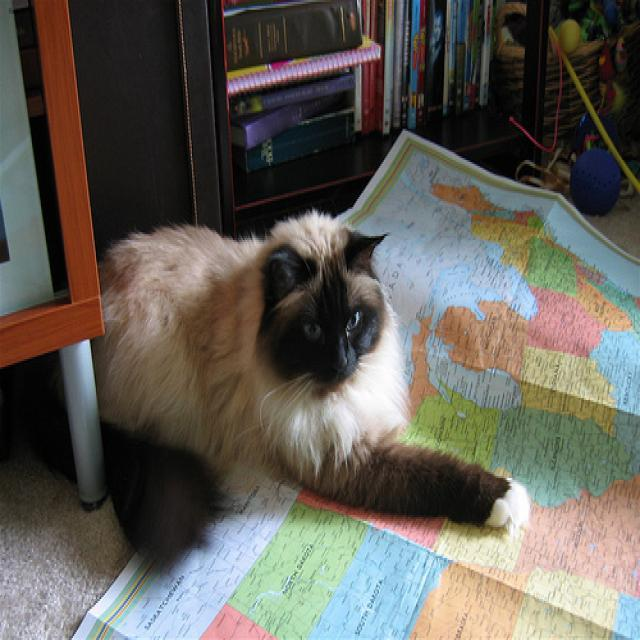Birman: (249, 207, 388, 419)
